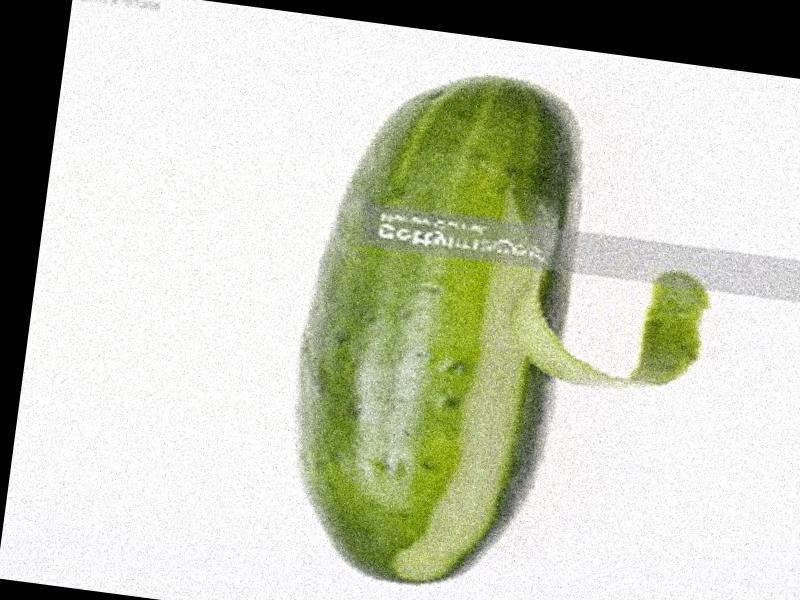Cucumber: (275, 55, 601, 600)
